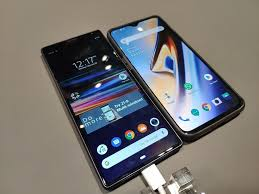sony: (38, 27, 182, 194)
